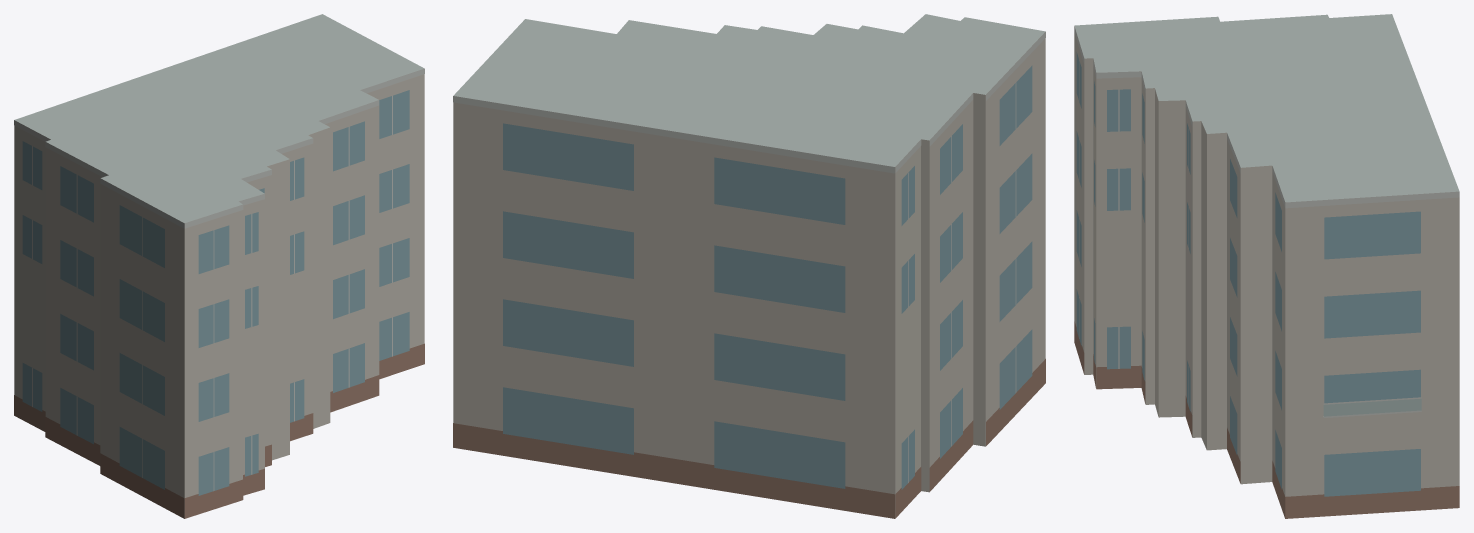
The model's file is survey-upis-32638077.glb.
3 views of the same model, side by side, from view 1: azimuth 30°, elevation 25°; view 2: azimuth 150°, elevation 25°; view 3: azimuth 270°, elevation 25° (orthographic). The views are drawn at different scales.
Visible parts, largest first — view 1: survey-upis-32638077.tmp; view 2: survey-upis-32638077.tmp; view 3: survey-upis-32638077.tmp.
Part boxes in pixels (x1,y1,x2,y2): survey-upis-32638077.tmp: (14, 14, 424, 518); survey-upis-32638077.tmp: (453, 14, 1045, 518); survey-upis-32638077.tmp: (1074, 14, 1459, 518).
Size of the model in its own units: 16.87 by 13.2 by 14.58.
